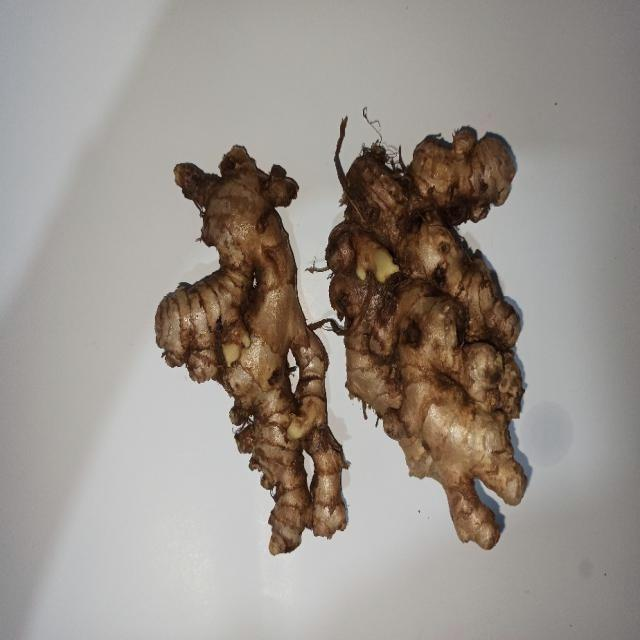ginger: (330, 124, 536, 557), (161, 154, 351, 541)
